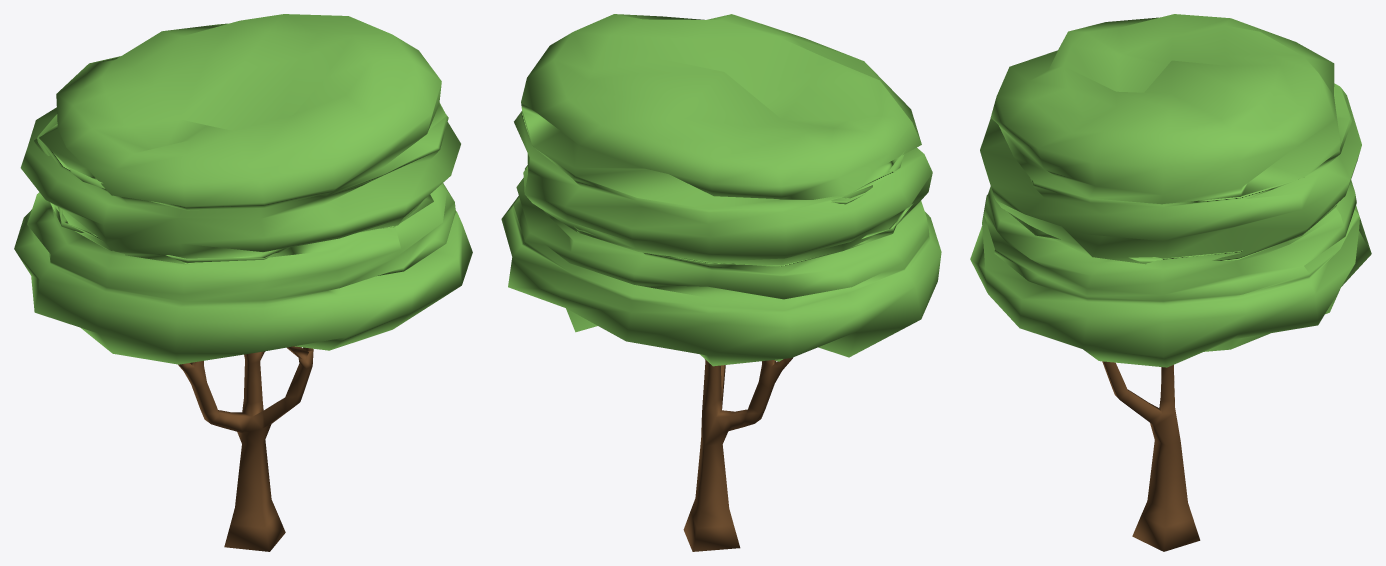
The model's file is tree_01.gltf.
3 views of the same model, side by side, from view 1: azimuth 30°, elevation 25°; view 2: azimuth 150°, elevation 25°; view 3: azimuth 270°, elevation 25° (orthographic).
Visible parts, largest first — view 1: tree_01; view 2: tree_01; view 3: tree_01.
Boxes of the visible parts, x1,y1,x2,y2 form: tree_01: (14, 14, 472, 551); tree_01: (501, 14, 941, 551); tree_01: (970, 14, 1371, 551).
Bounding box in the file's own units: 3.29 × 3.72 × 2.83.
1 material, 1 textured.
